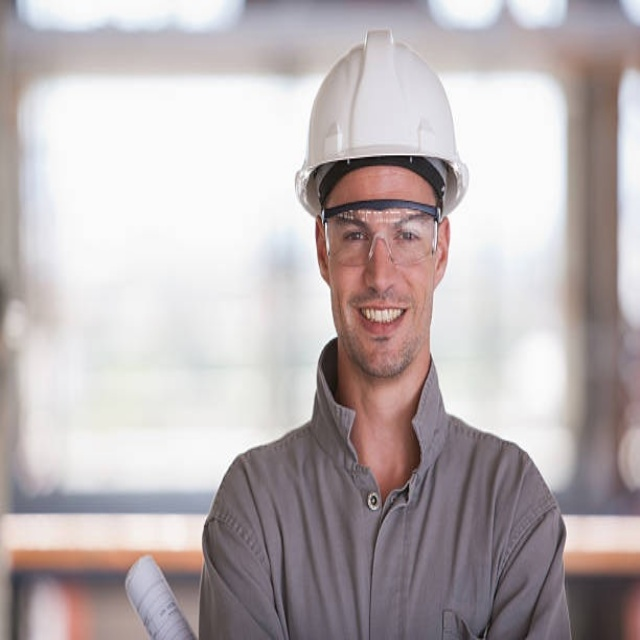Gafas: (322, 198, 444, 270)
Sin_mascara: (349, 292, 409, 362)
